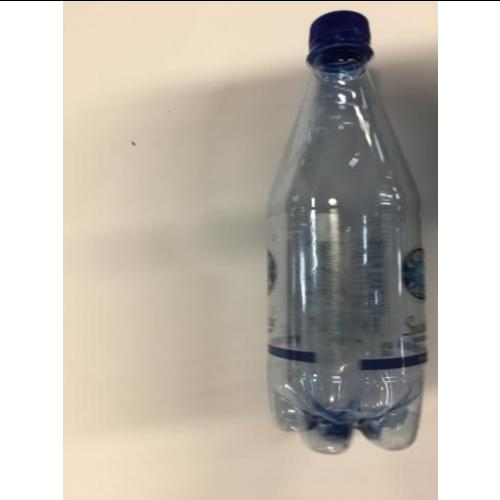plastic: (267, 11, 421, 453)
